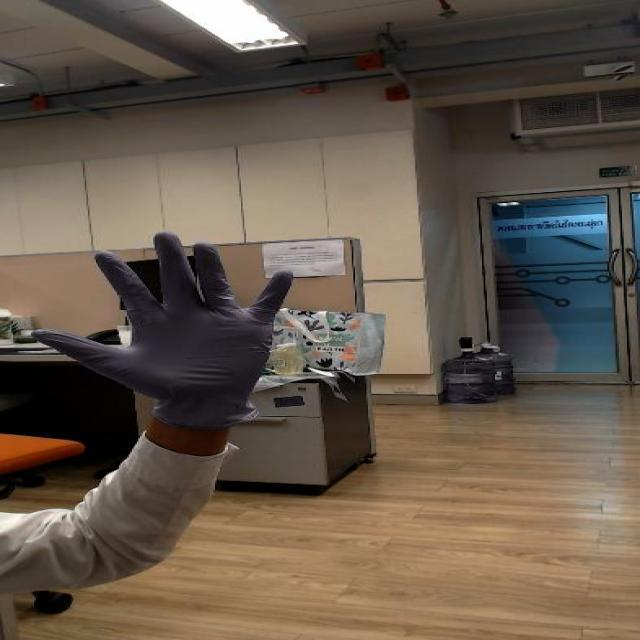with_gloves: (19, 222, 320, 386)
